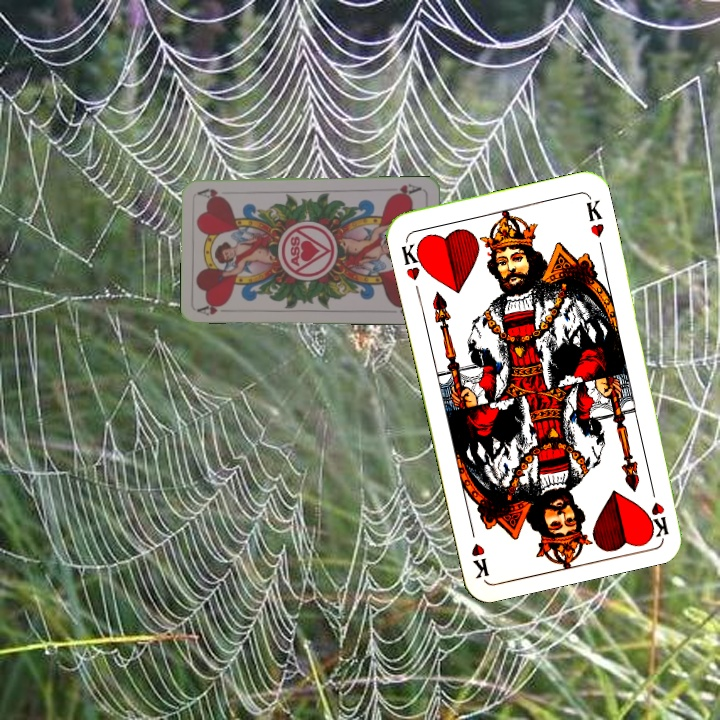HA: (195, 299, 236, 318), (386, 180, 424, 199)
HK: (645, 478, 672, 538), (397, 236, 428, 283)
